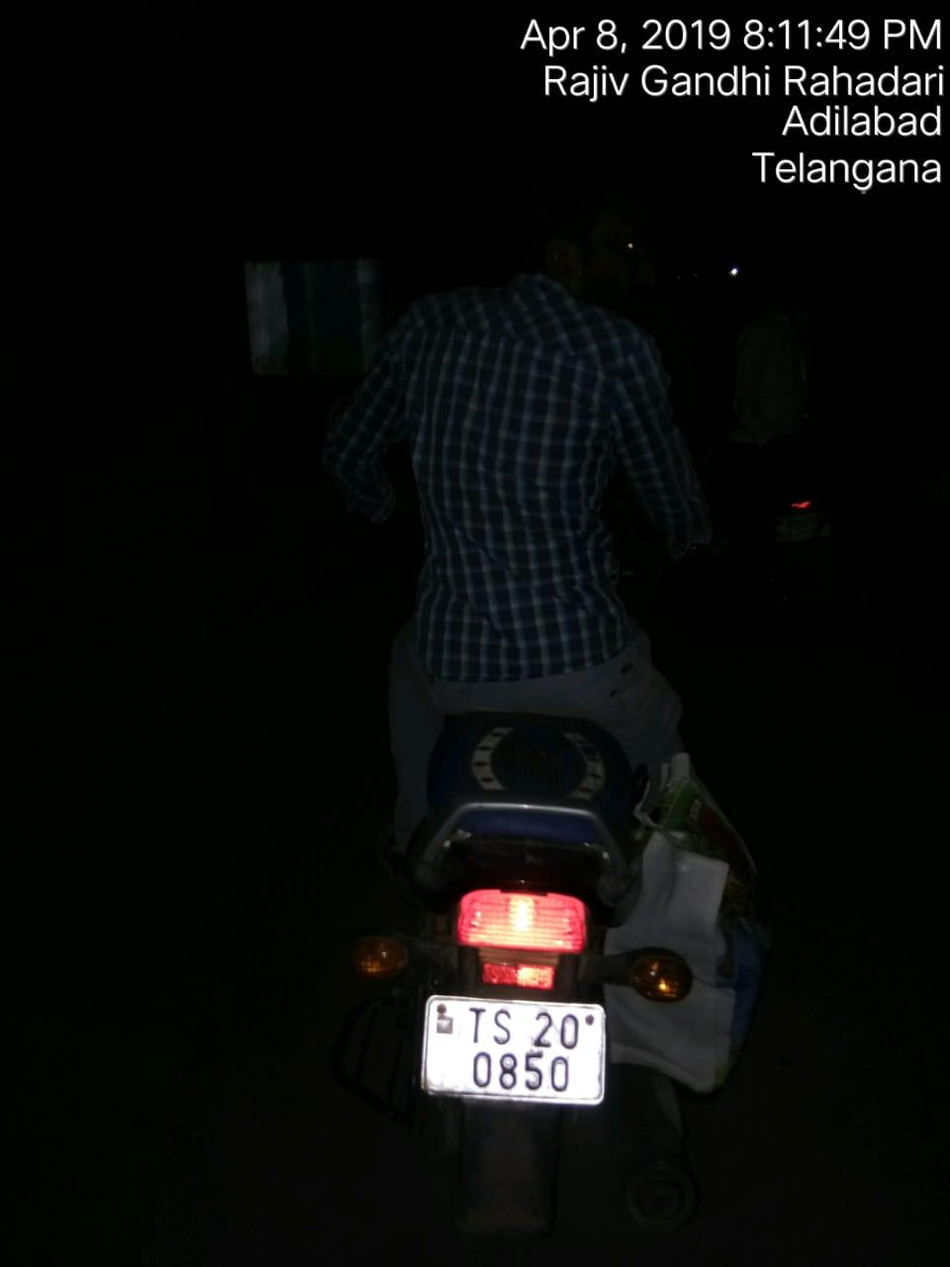plate: (404, 976, 644, 1125)
